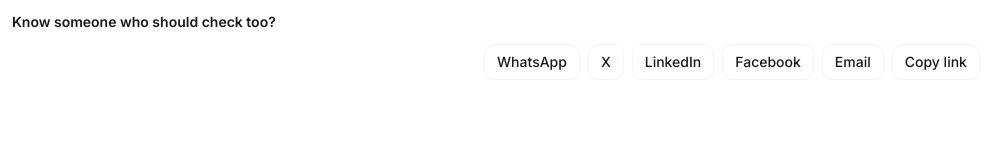
Test case: ShareButtons › copies a tagged link
Click the button "Copy link": (936, 62) [892,44,980,80]
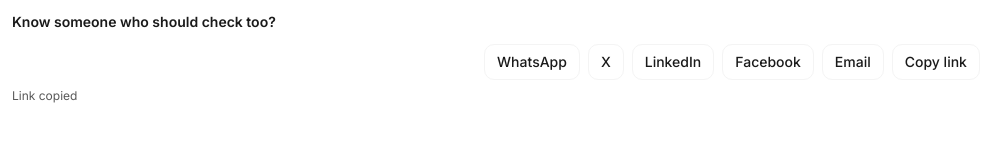
Expected: the text "Link copied" is shown, [12,88,77,103]
